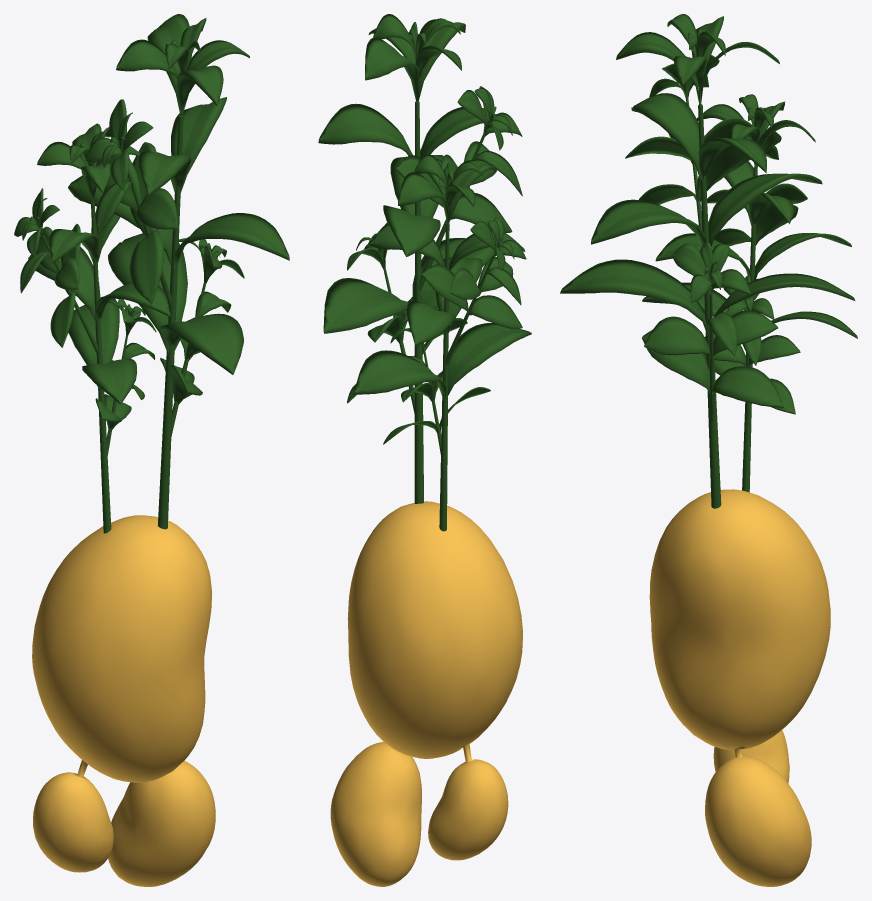
File: potato.fbx
3 views of the same model, side by side, from view 1: azimuth 30°, elevation 25°; view 2: azimuth 150°, elevation 25°; view 3: azimuth 270°, elevation 25° (orthographic). The views are drawn at different scales.
Visible parts, largest first — view 1: potato; view 2: potato; view 3: potato.
Boxes of the visible parts, left/top/right/bottom form: potato: left=14, top=14, right=289, bottom=886; potato: left=318, top=14, right=531, bottom=886; potato: left=560, top=14, right=857, bottom=886.
Bounding box in the file's own units: 237 × 974 × 304.
